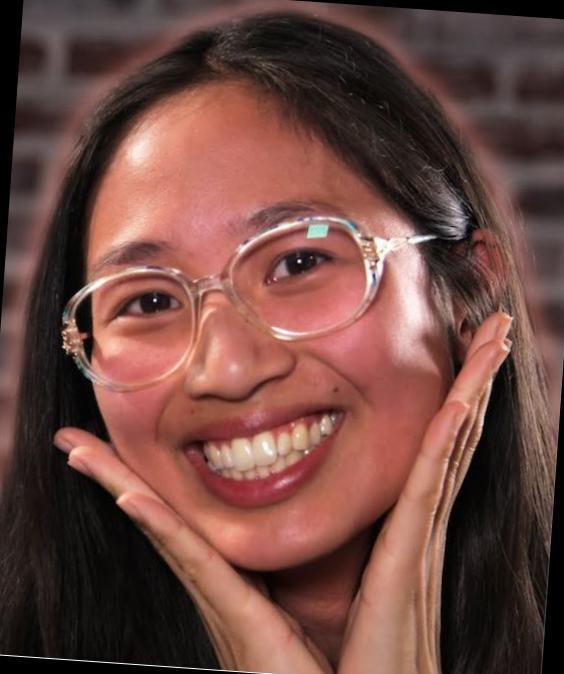Drunk: (96, 139, 413, 560)
